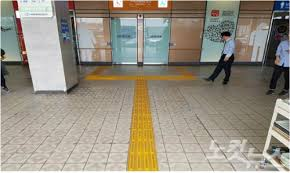guide_blocks: (126, 81, 158, 172), (87, 75, 194, 80), (92, 66, 110, 76)
